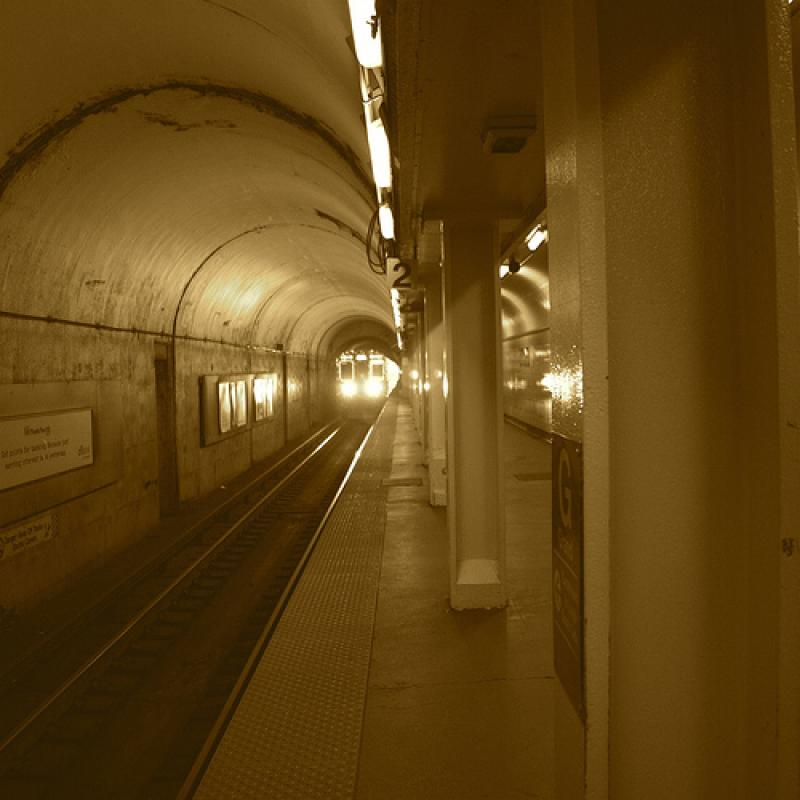train: (336, 342, 405, 417)
